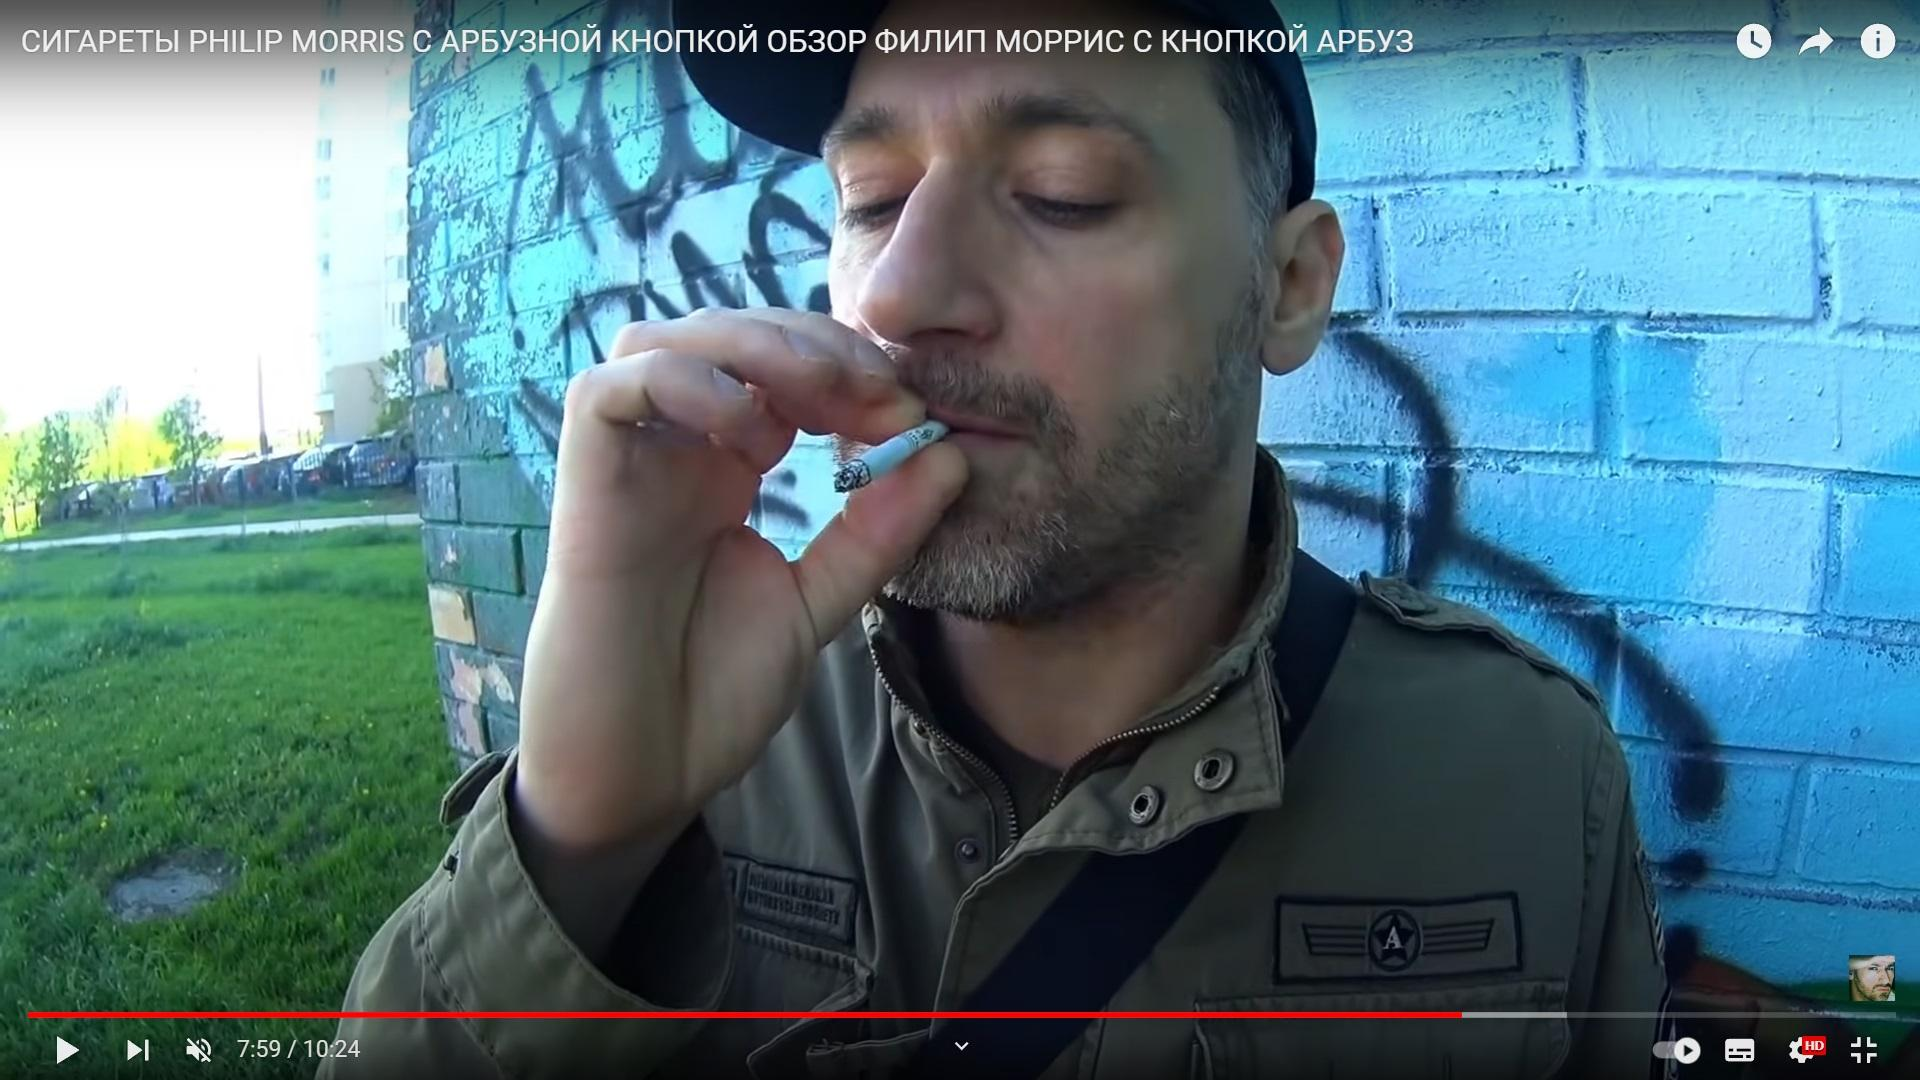cigarette: (833, 418, 951, 492)
